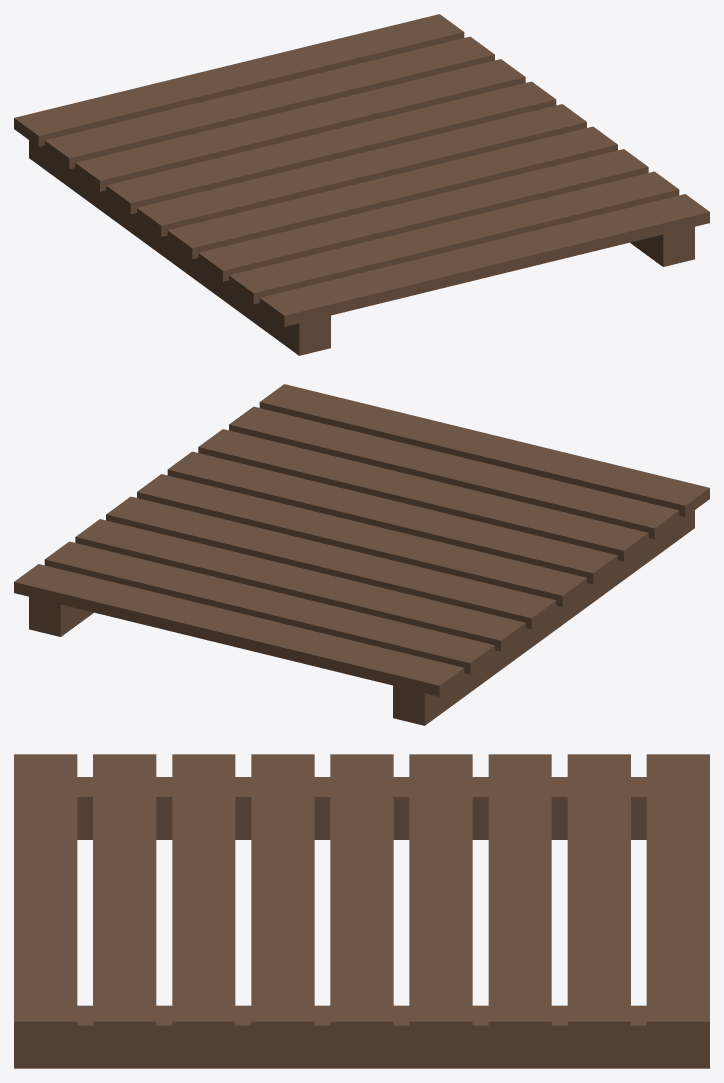
File: SPW_Medieval_Props_02.glb
The picture shows the model from 3 angles, top to bottom: view 1: azimuth 30°, elevation 25°; view 2: azimuth 150°, elevation 25°; view 3: azimuth 270°, elevation 25°; orthographic projection. The views are drawn at different scales.
Parts seen in each view (by area): view 1: SPW_Medieval_Props_02; view 2: SPW_Medieval_Props_02; view 3: SPW_Medieval_Props_02.
Boxes of the visible parts, x1,y1,x2,y2 form: SPW_Medieval_Props_02: (14,14,709,355); SPW_Medieval_Props_02: (14,384,709,725); SPW_Medieval_Props_02: (14,754,709,1068).
Size of the model in its own units: 0.75 by 0.0737 by 0.825.
1 material, 1 textured.
